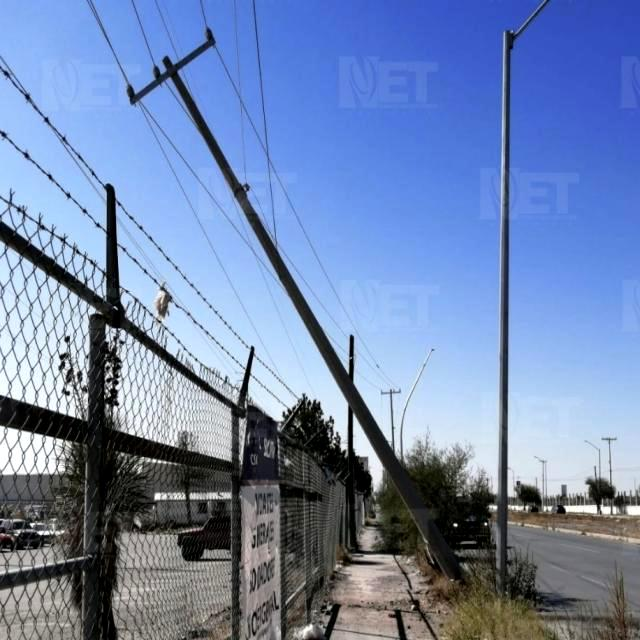Broken Pole: (112, 19, 474, 591)
